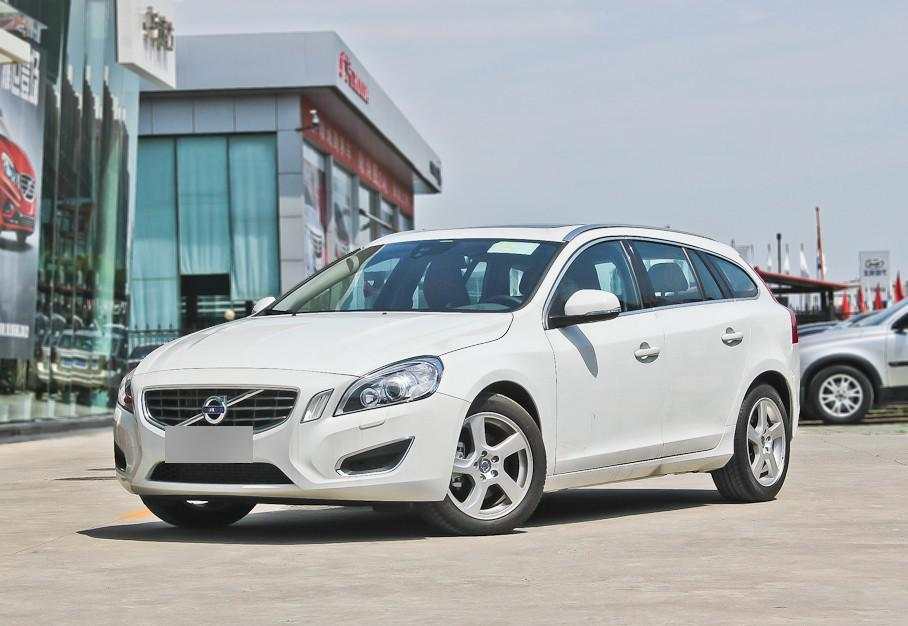Wagon: (112, 223, 801, 535)
